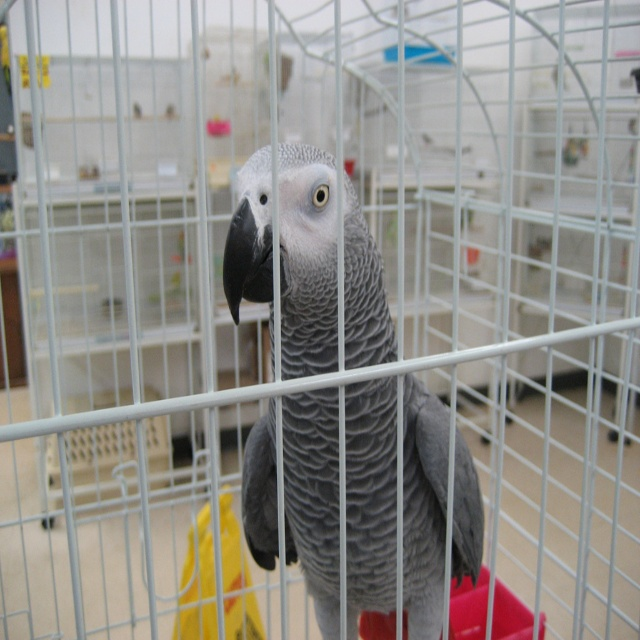Parrot: (224, 133, 484, 639)
